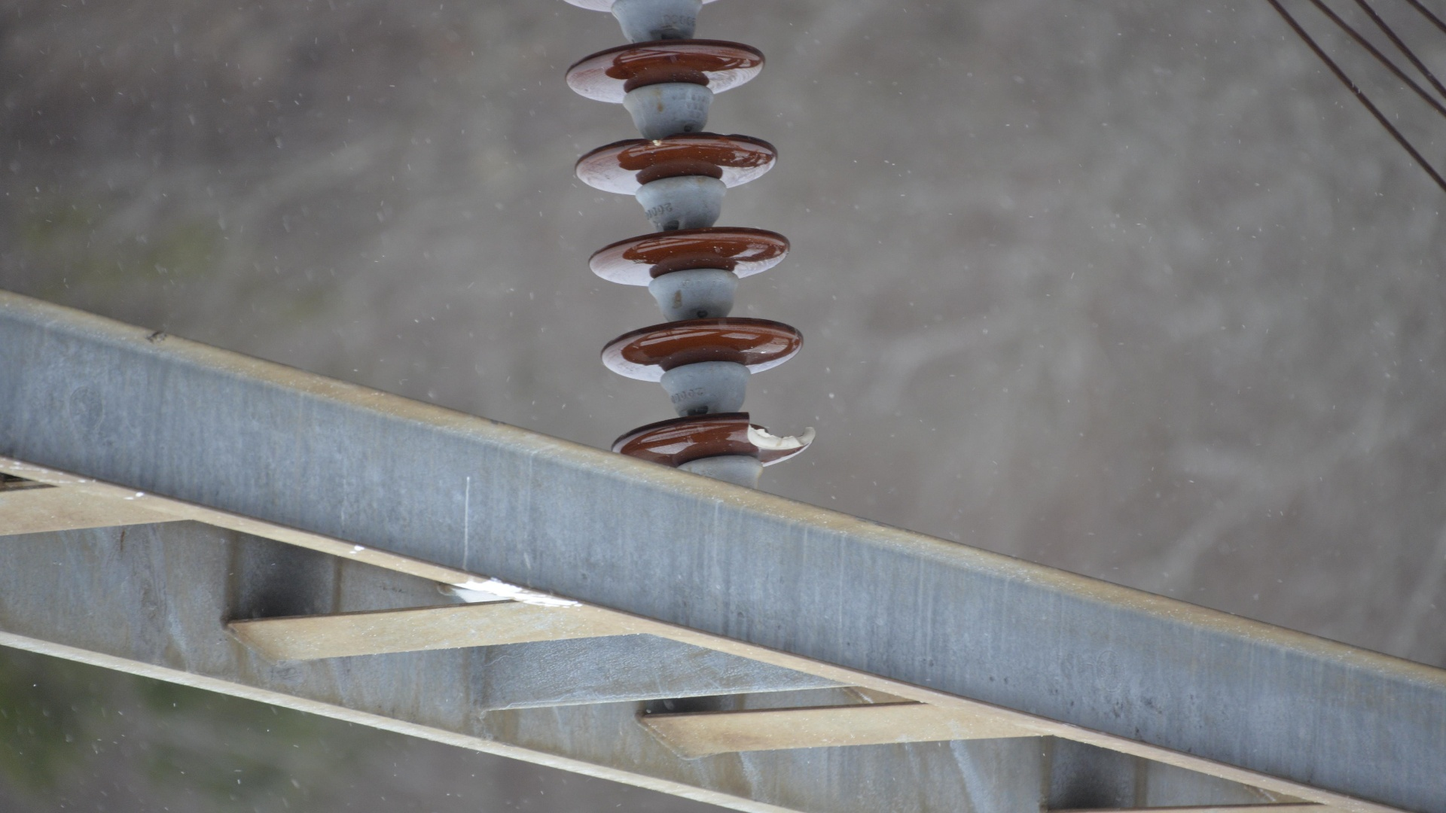insulator: (556, 1, 821, 486)
insulator_breakage: (740, 409, 818, 455)
